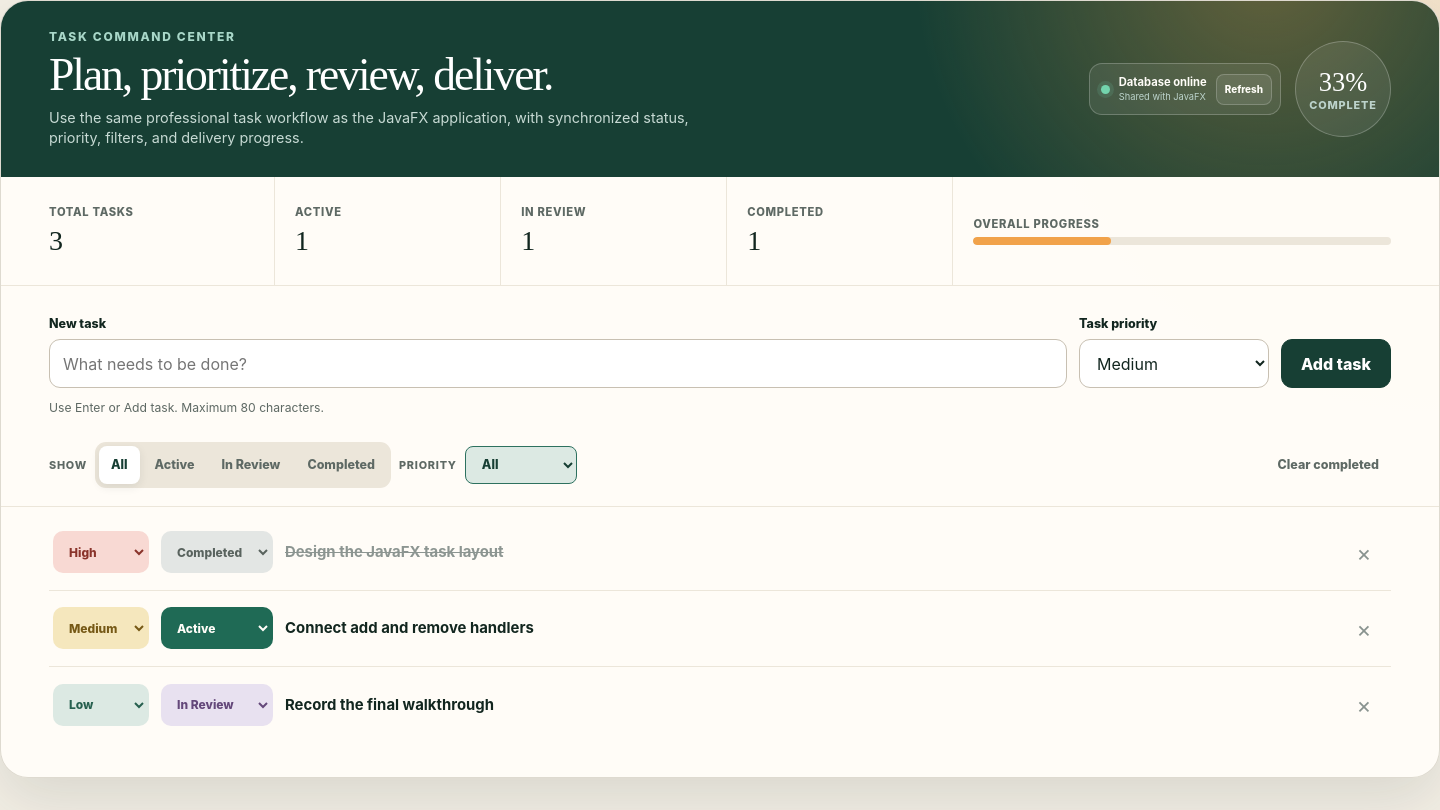
AdvancedTaskLab › adds an active task with the selected priority
Expected: the text "Connect add and remove handlers" is shown, [285, 619, 534, 637]
Type "Write JUnit tests" into the field labelled "New task" at (558, 364), box [49, 339, 1067, 388]
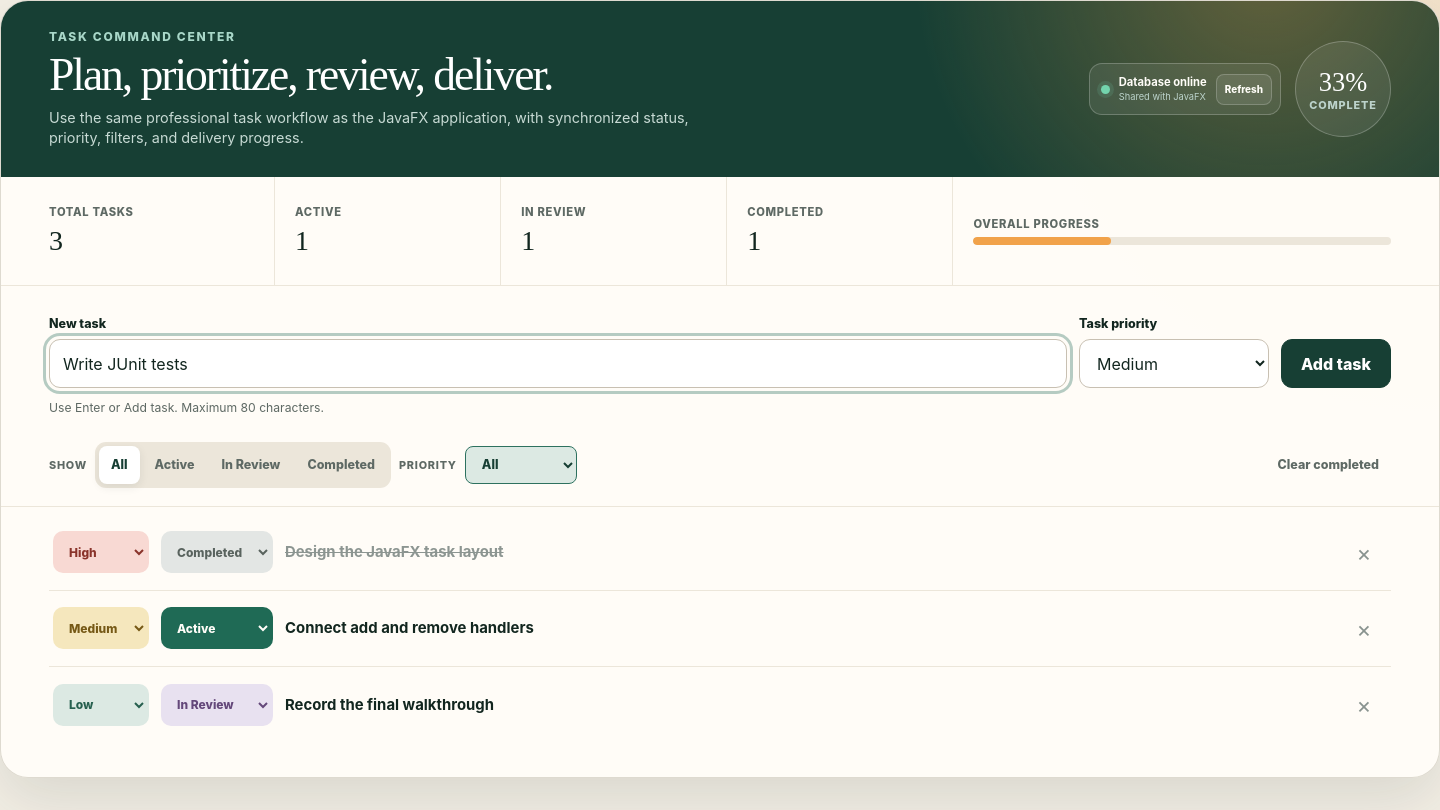
Select "High" in the dropdown labelled "Task priority" at (1174, 364), box [1079, 339, 1269, 388]
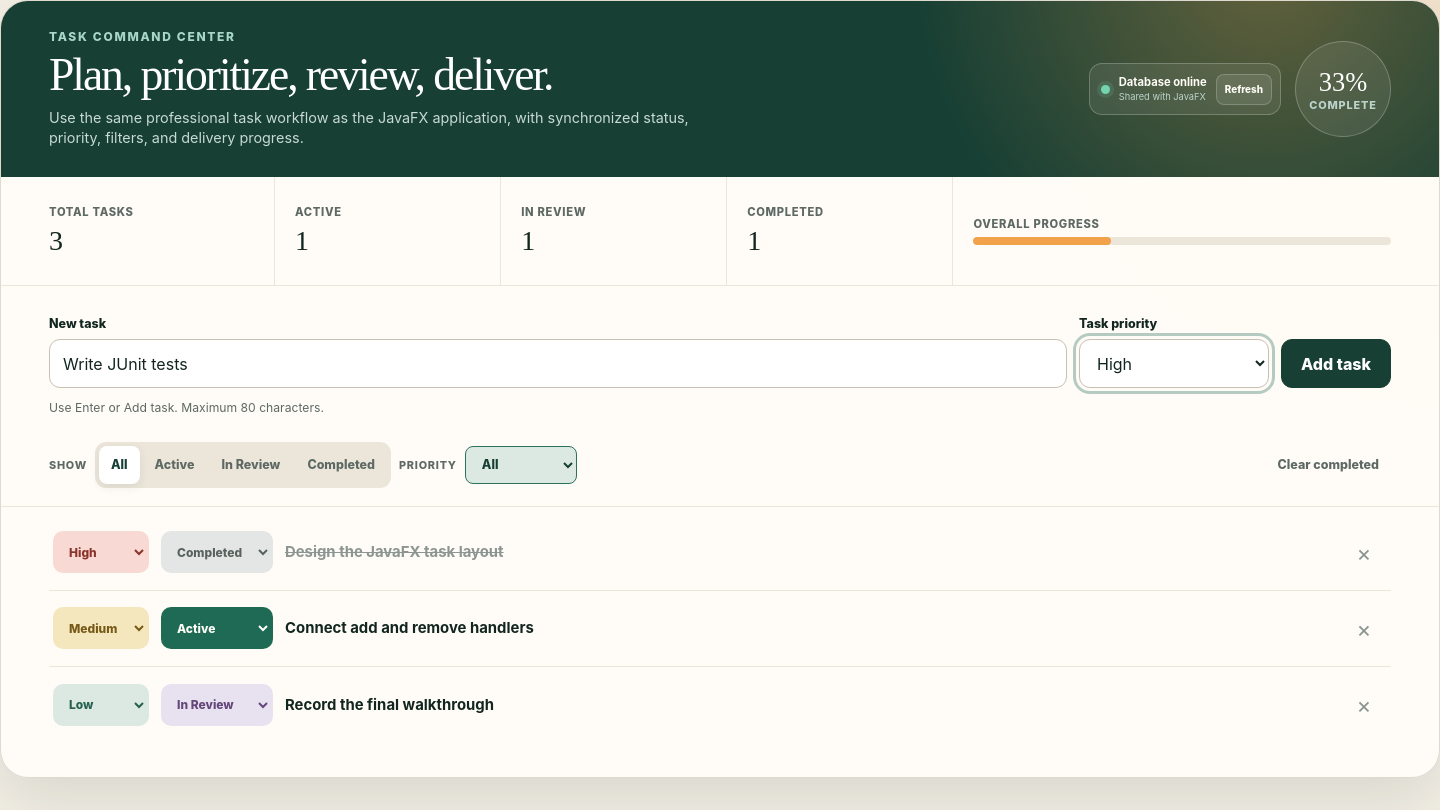
Click the button "Add task" at (1336, 364), box [1281, 339, 1391, 388]
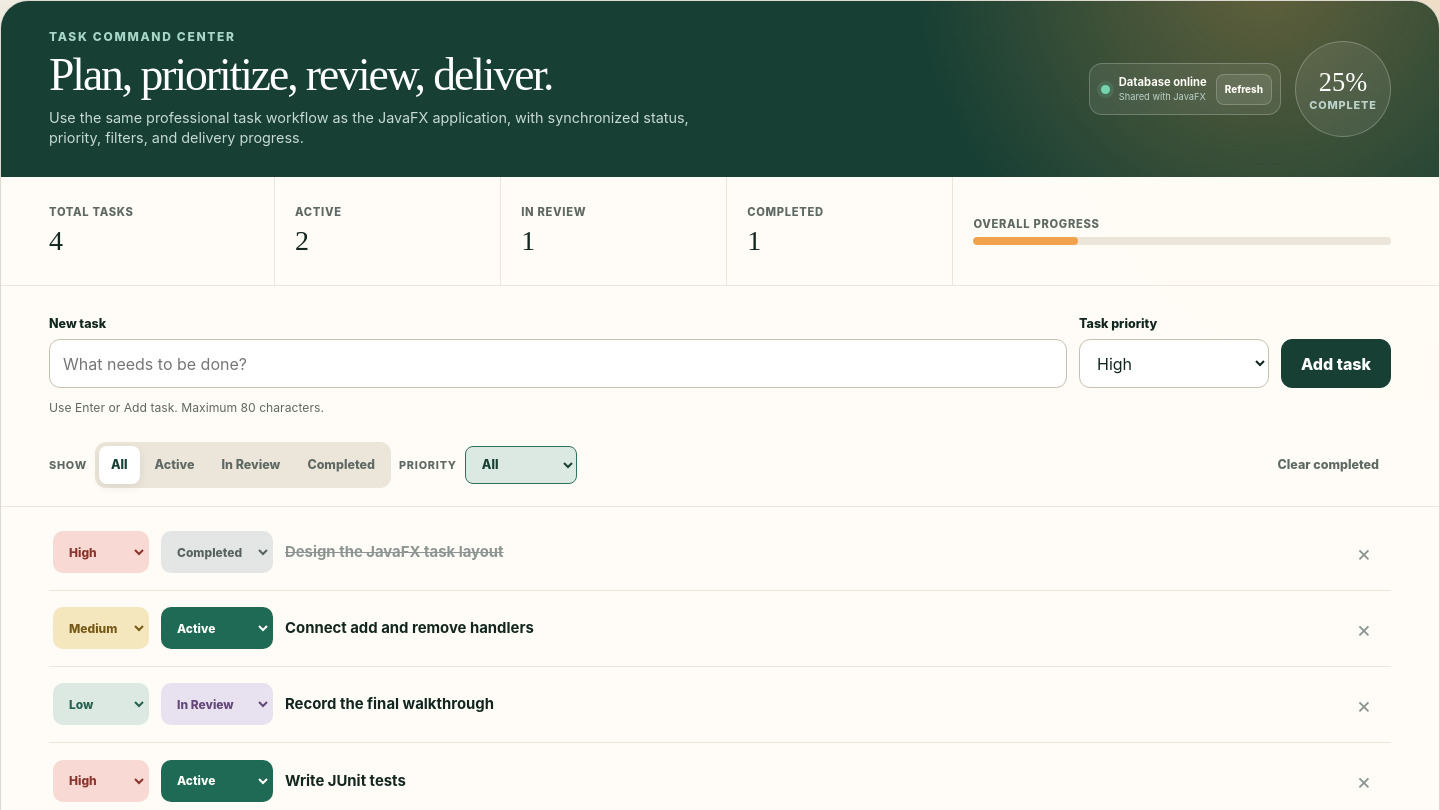
Now the text "Write JUnit tests" is shown, box [285, 772, 406, 790]
Now the dropdown named "Priority for \"Write JUnit tests\"" shows "High", box [53, 760, 149, 802]
Now the dropdown named "Status for \"Write JUnit tests\"" shows "Active", box [161, 760, 273, 802]
